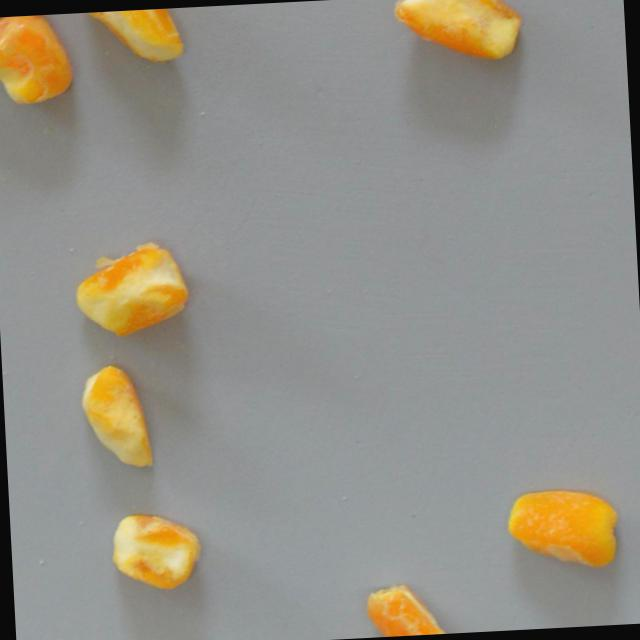pelicula: (72, 237, 193, 340), (504, 486, 623, 573), (392, 0, 523, 71), (78, 363, 155, 473), (0, 13, 77, 109), (108, 511, 201, 590), (80, 7, 186, 71), (365, 582, 459, 638)
